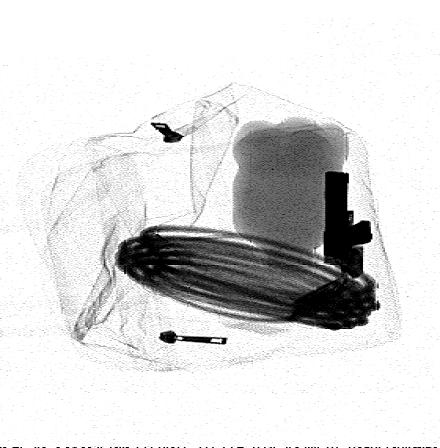Gun: (319, 169, 376, 278)
